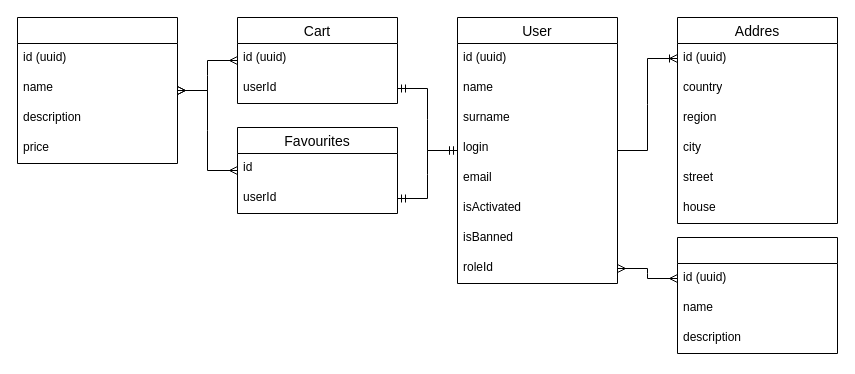
Image size: 855x374. Some labels were removed from this diagram. Here are the shapes that lost their labels. From the top down, the box of each, then its label:
(16, 16, 178, 164): Product
(676, 236, 838, 354): Role
